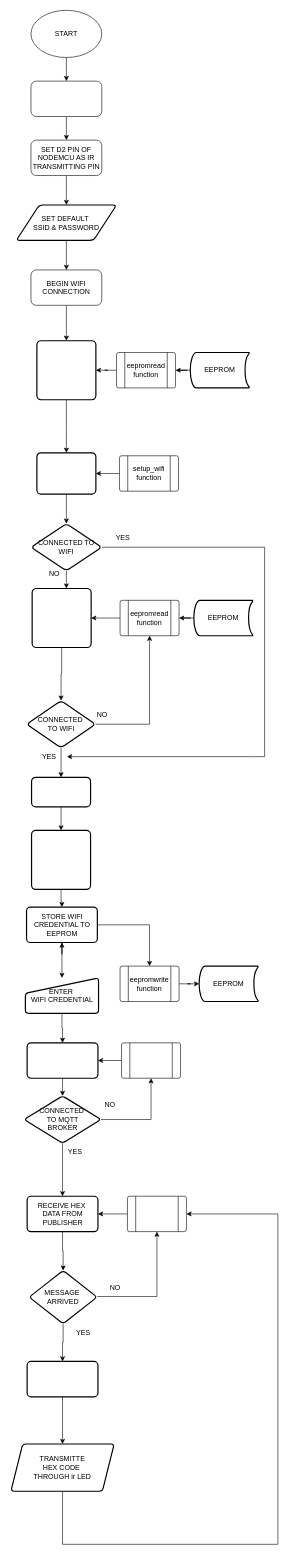
Some shapes in this 293 by 1559 pixel diagram are drawn without their labels. The centre of each missing label's shape, as x and y in pixels:
"CALLBACK FUNCTION" goes at (156,1214).
"CONNECT TO DEFAULT SSID/ PASSWORD" goes at (66,473).
"CONNECT TO MQTT BROKER" goes at (62,1060).
"CONNECT TO SSID PASWORD FETCEHD FROM EEPROM" goes at (61,618).
"DISPLAY THE HEX ON SERIAL MONITOR" goes at (62,1379).
"FETCH SSID PASSWORD FROM EEPROM" goes at (66,370).
"LOAD WEBPAGE HOSTED ON NODEMCU TO CHANGE WIFI CREDENTIAL" goes at (61,860).
"SERVER BEGIN" goes at (61,791).
"SUBSCRIBE" goes at (151,1060).
"VARIABLE DEFINING AND INITIATION" goes at (66,99).
